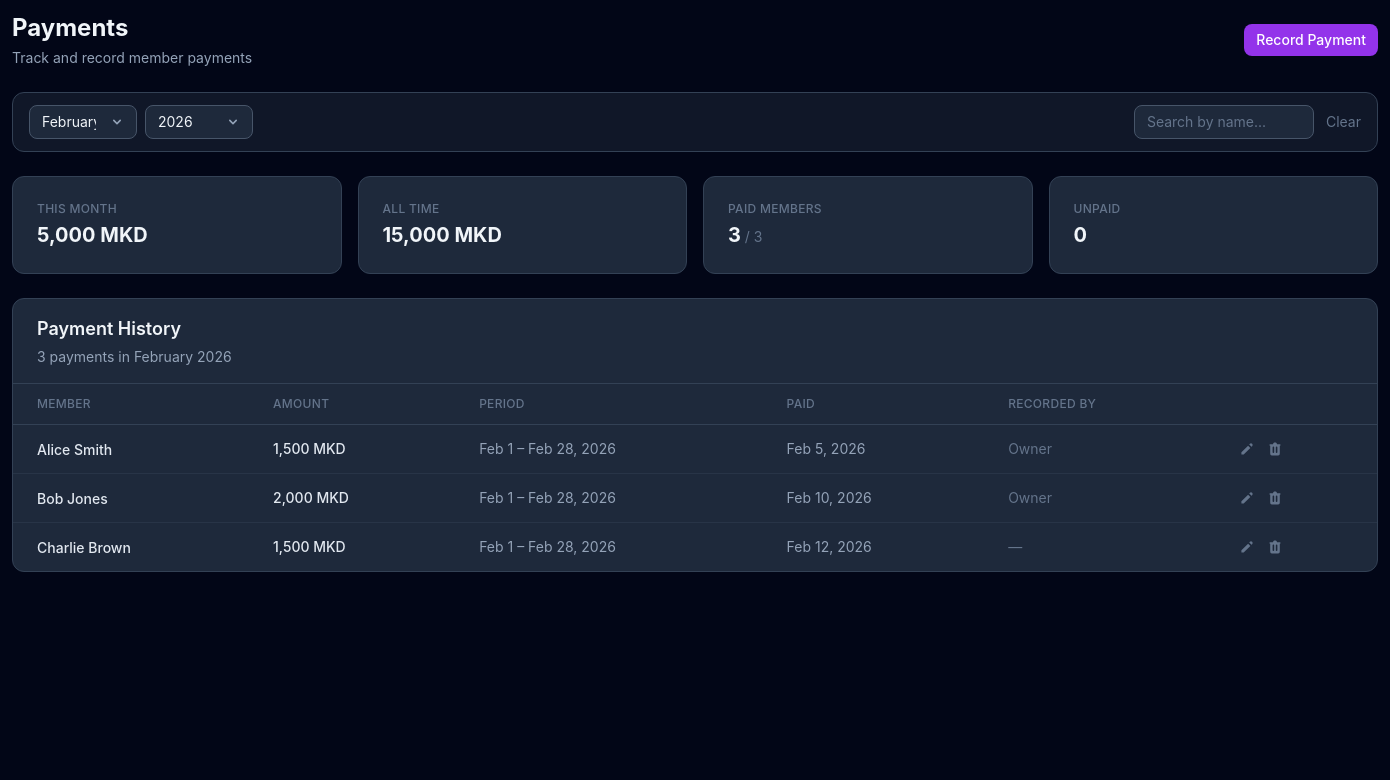
Test: PaymentsClient › Search › filters payments by member name (case-insensitive)
In the field named "Search payments by member name": (1224, 122) [1134,105,1314,139], type "alice"
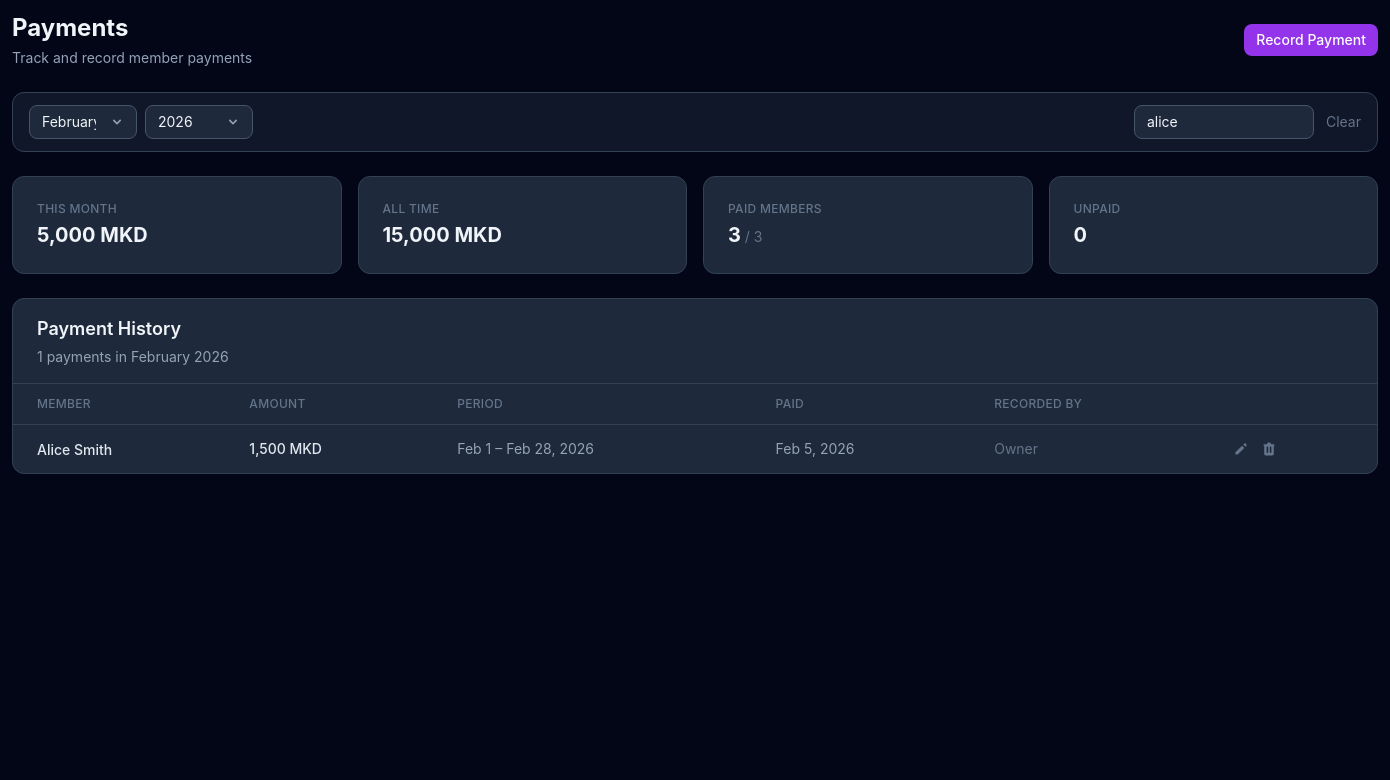
Expected: the link "Alice Smith" is shown, [37,441,112,458]
Result: the link "Bob Jones" is gone
Result: the link "Charlie Brown" is gone
